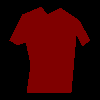abbigliamento_uomo: (9, 6, 90, 93)
